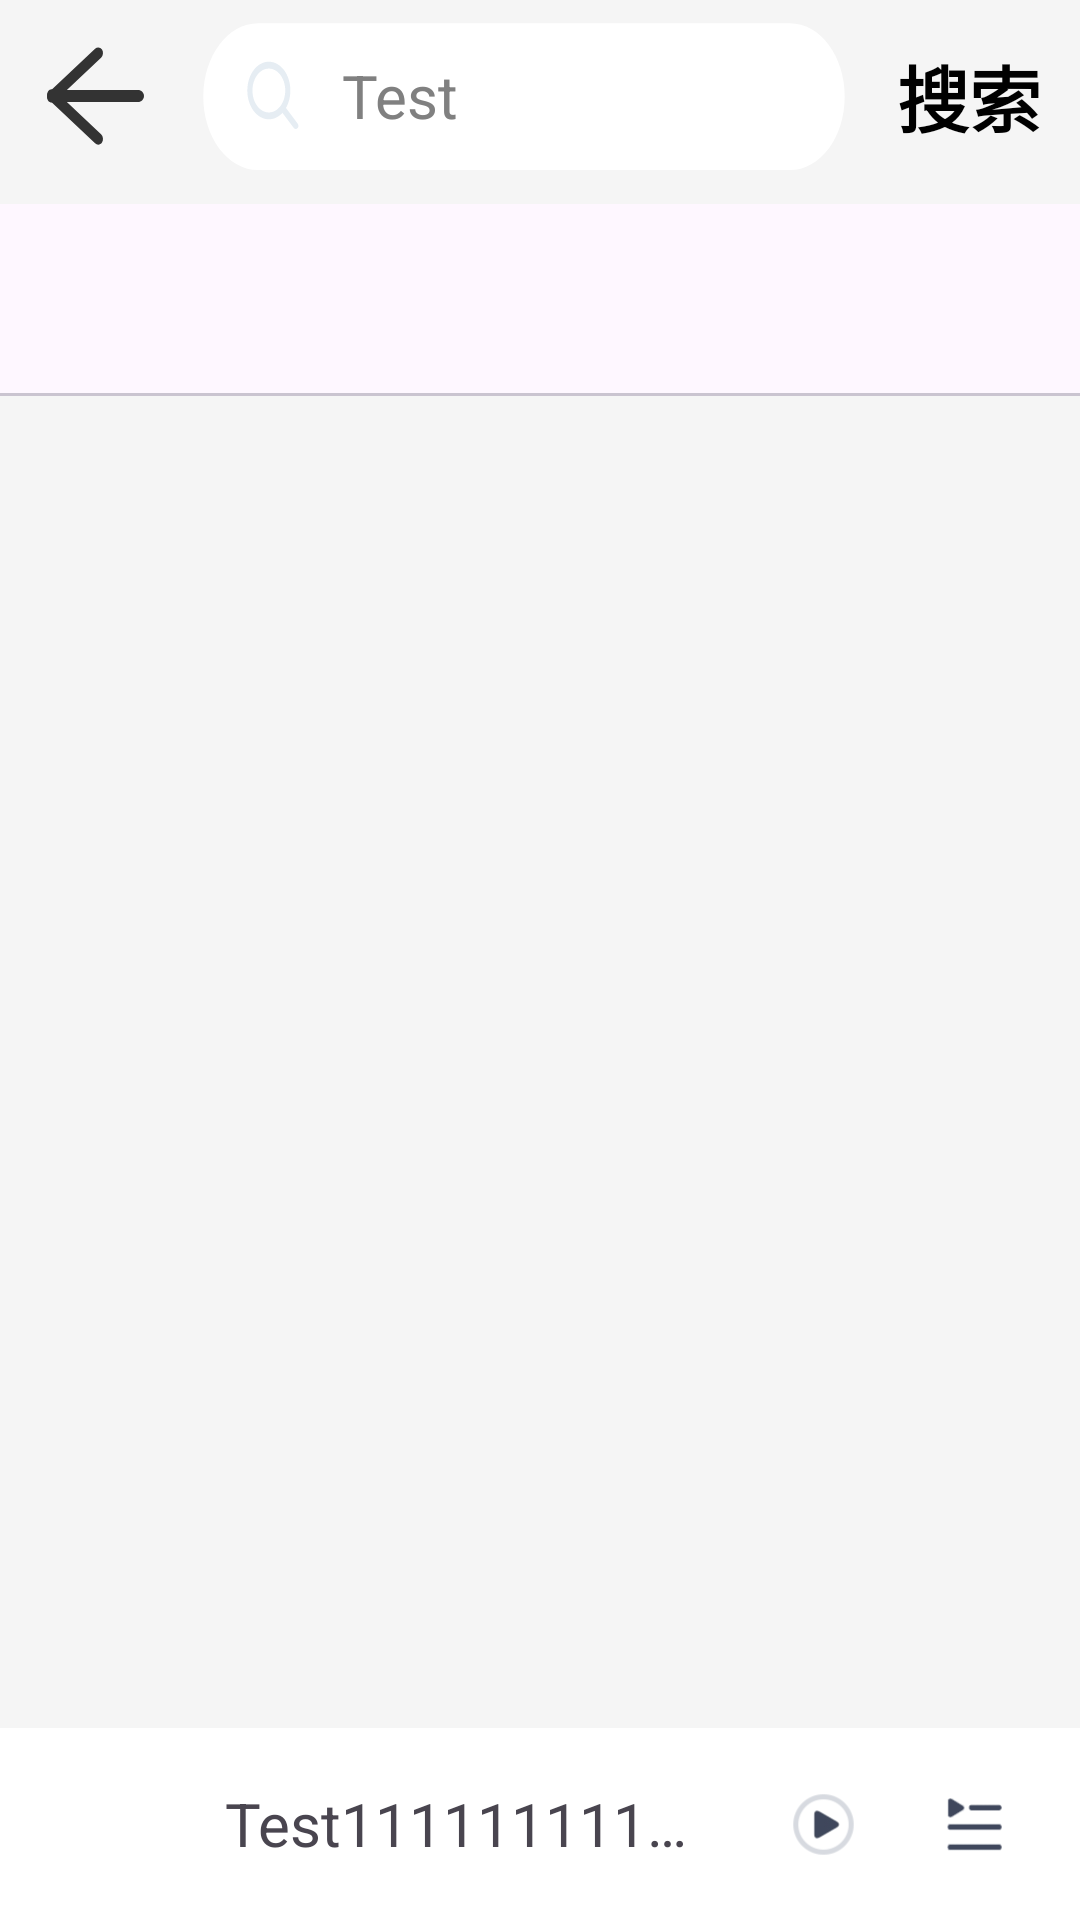

Icons on this 1080w x 1920h Android screen, each with its box as {"left": x1, "top": y1, "right": x2, "bottom": y2}:
Play: {"left": 793, "top": 1794, "right": 854, "bottom": 1855}
